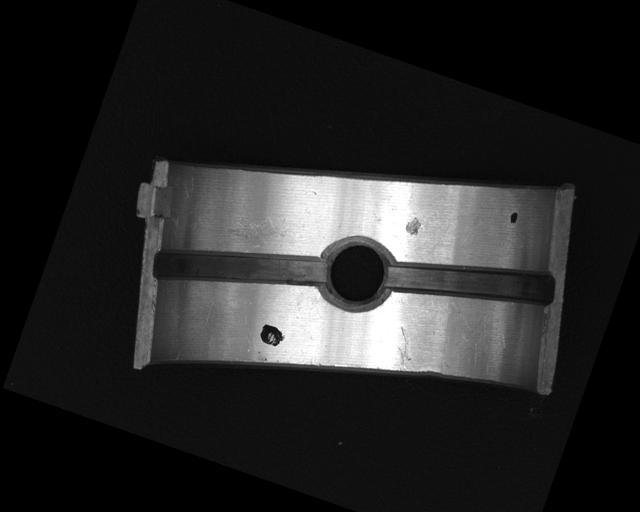blot: (255, 321, 287, 349), (506, 210, 520, 225)
bruise: (403, 213, 423, 237)
gap: (150, 206, 331, 328), (384, 224, 560, 335)
hole: (310, 226, 401, 318)
nick: (386, 324, 421, 371)
scratch: (199, 195, 283, 262)
